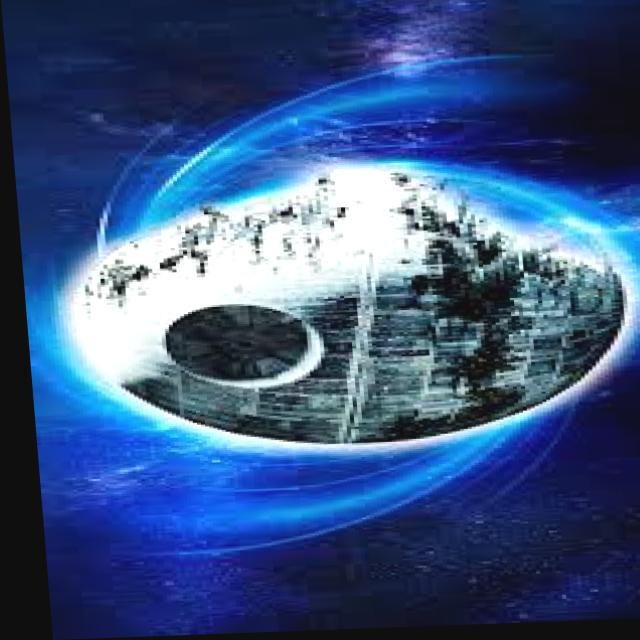deathStar: (49, 158, 631, 454)
